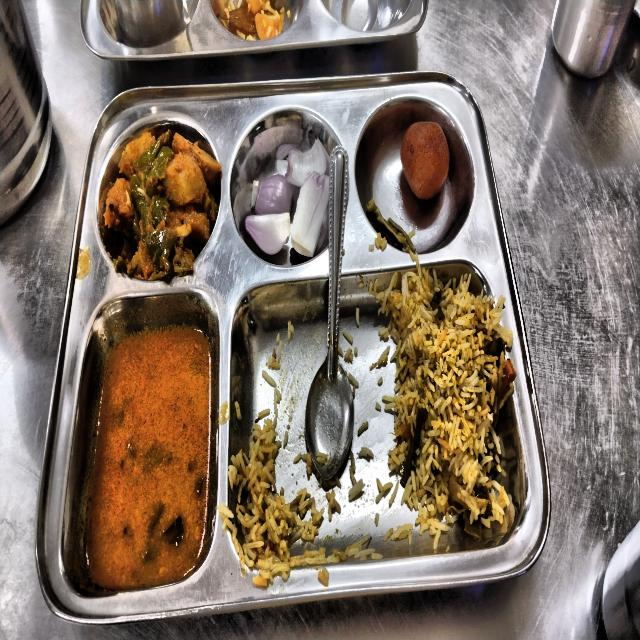Biryani: (370, 282, 515, 546)
